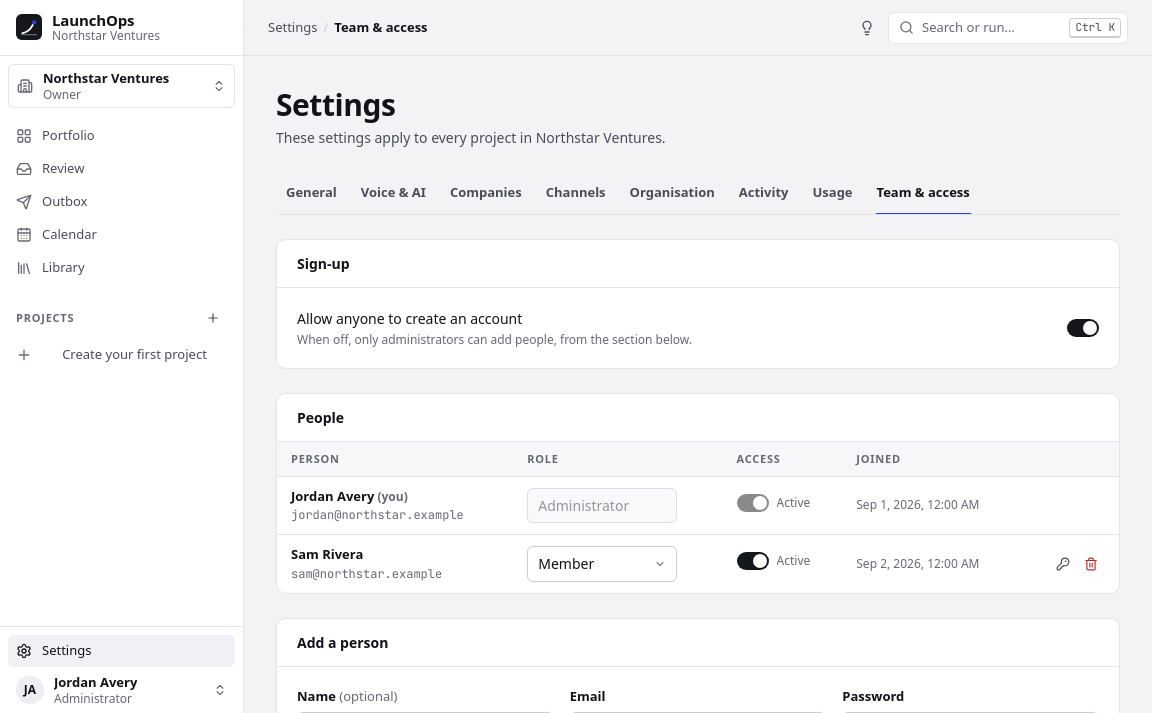
Test case: Administrators › create a one-time password reset link for someone
Click the button named "Create a password reset link for sam@northstar.example" at [1063, 564], box [1049,550,1077,578]
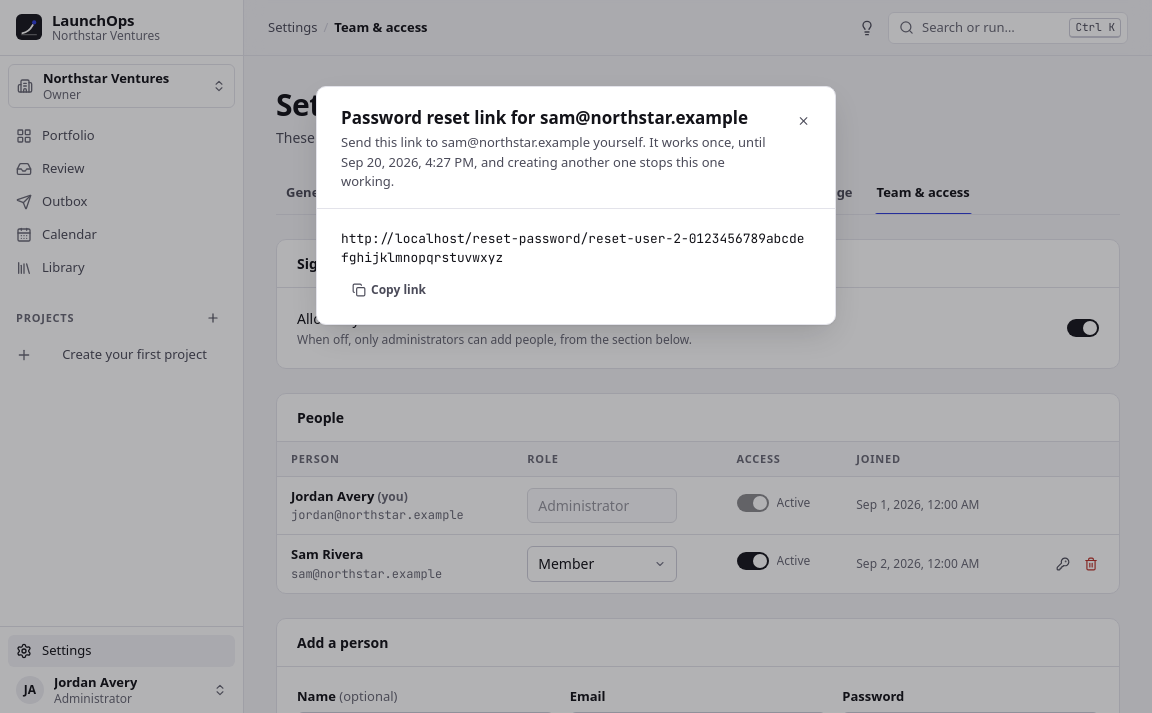
expect the button "Copy link" is shown: met, box [341,276,437,304]
